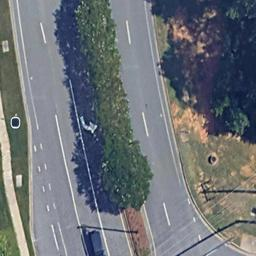Car: (85, 228, 104, 256)
Left Turn Arrow: (79, 114, 99, 133)
Solid White Line: (68, 79, 109, 256), (55, 114, 82, 231)
White Dashed Line: (121, 4, 174, 228), (33, 9, 58, 71), (39, 140, 58, 210), (187, 196, 204, 256)
